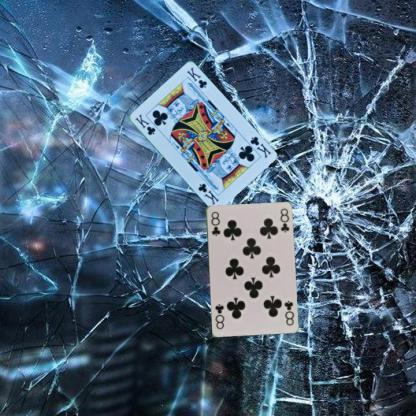8c: (282, 298, 296, 326), (208, 208, 221, 237)
Kc: (247, 134, 272, 160), (132, 112, 157, 136)
